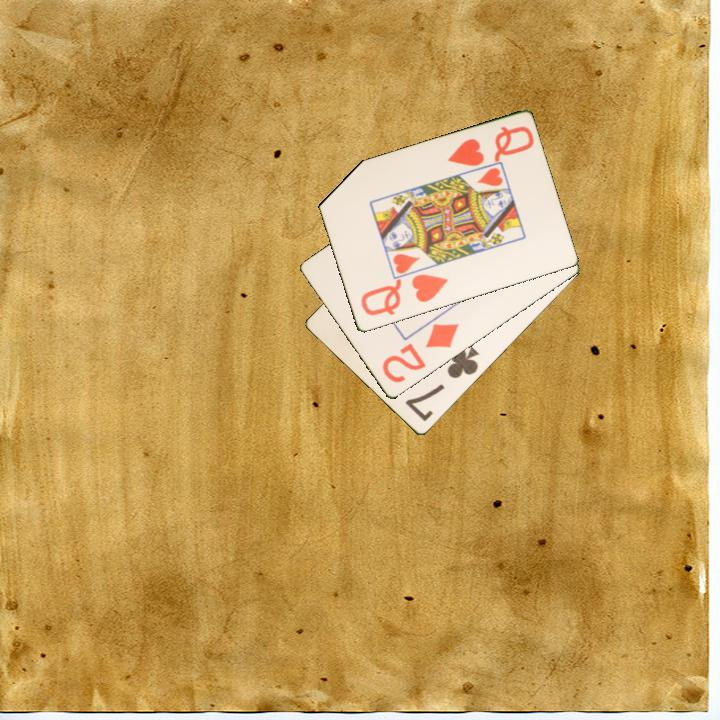2d: (378, 320, 462, 386)
7c: (402, 343, 482, 425)
Qh: (357, 271, 451, 319), (444, 123, 537, 170)
